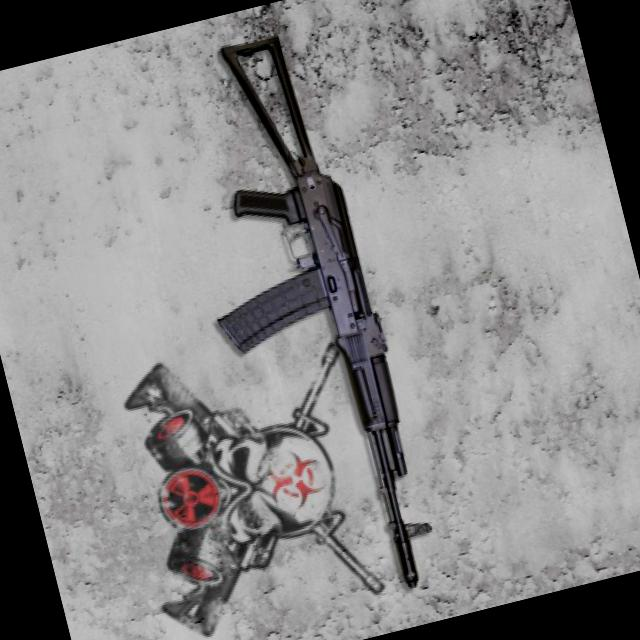long weapon: (144, 17, 454, 626)
